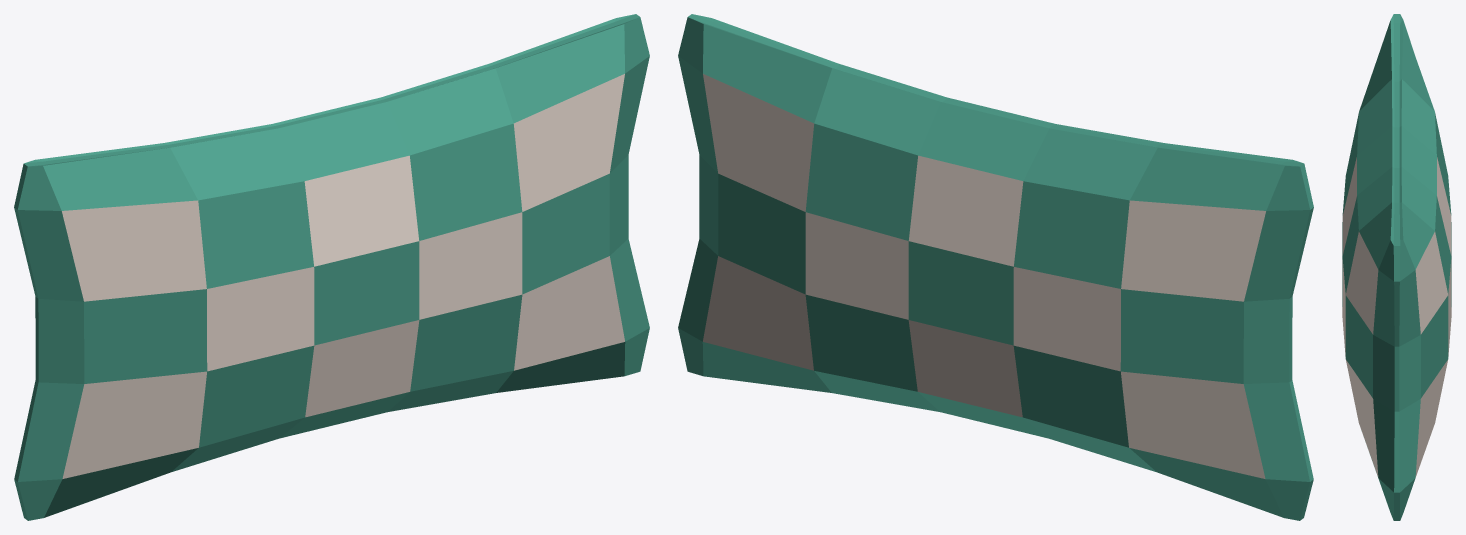
Rendered from Pillow_11.fbx.
3 renders of one model, left to right at view 1: azimuth 30°, elevation 25°; view 2: azimuth 150°, elevation 25°; view 3: azimuth 270°, elevation 25°, orthographic. The views are drawn at different scales.
Visible parts, largest first — view 1: Pillow_11; view 2: Pillow_11; view 3: Pillow_11.
Boxes of the visible parts, x1,y1,x2,y2 form: Pillow_11: (14, 14, 649, 520); Pillow_11: (678, 14, 1313, 520); Pillow_11: (1342, 14, 1451, 520).
Bounding box in the file's own units: 49.46 × 9.54 × 26.51.
